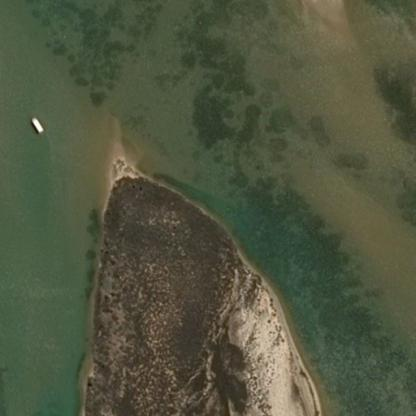ship: (24, 112, 46, 135)
